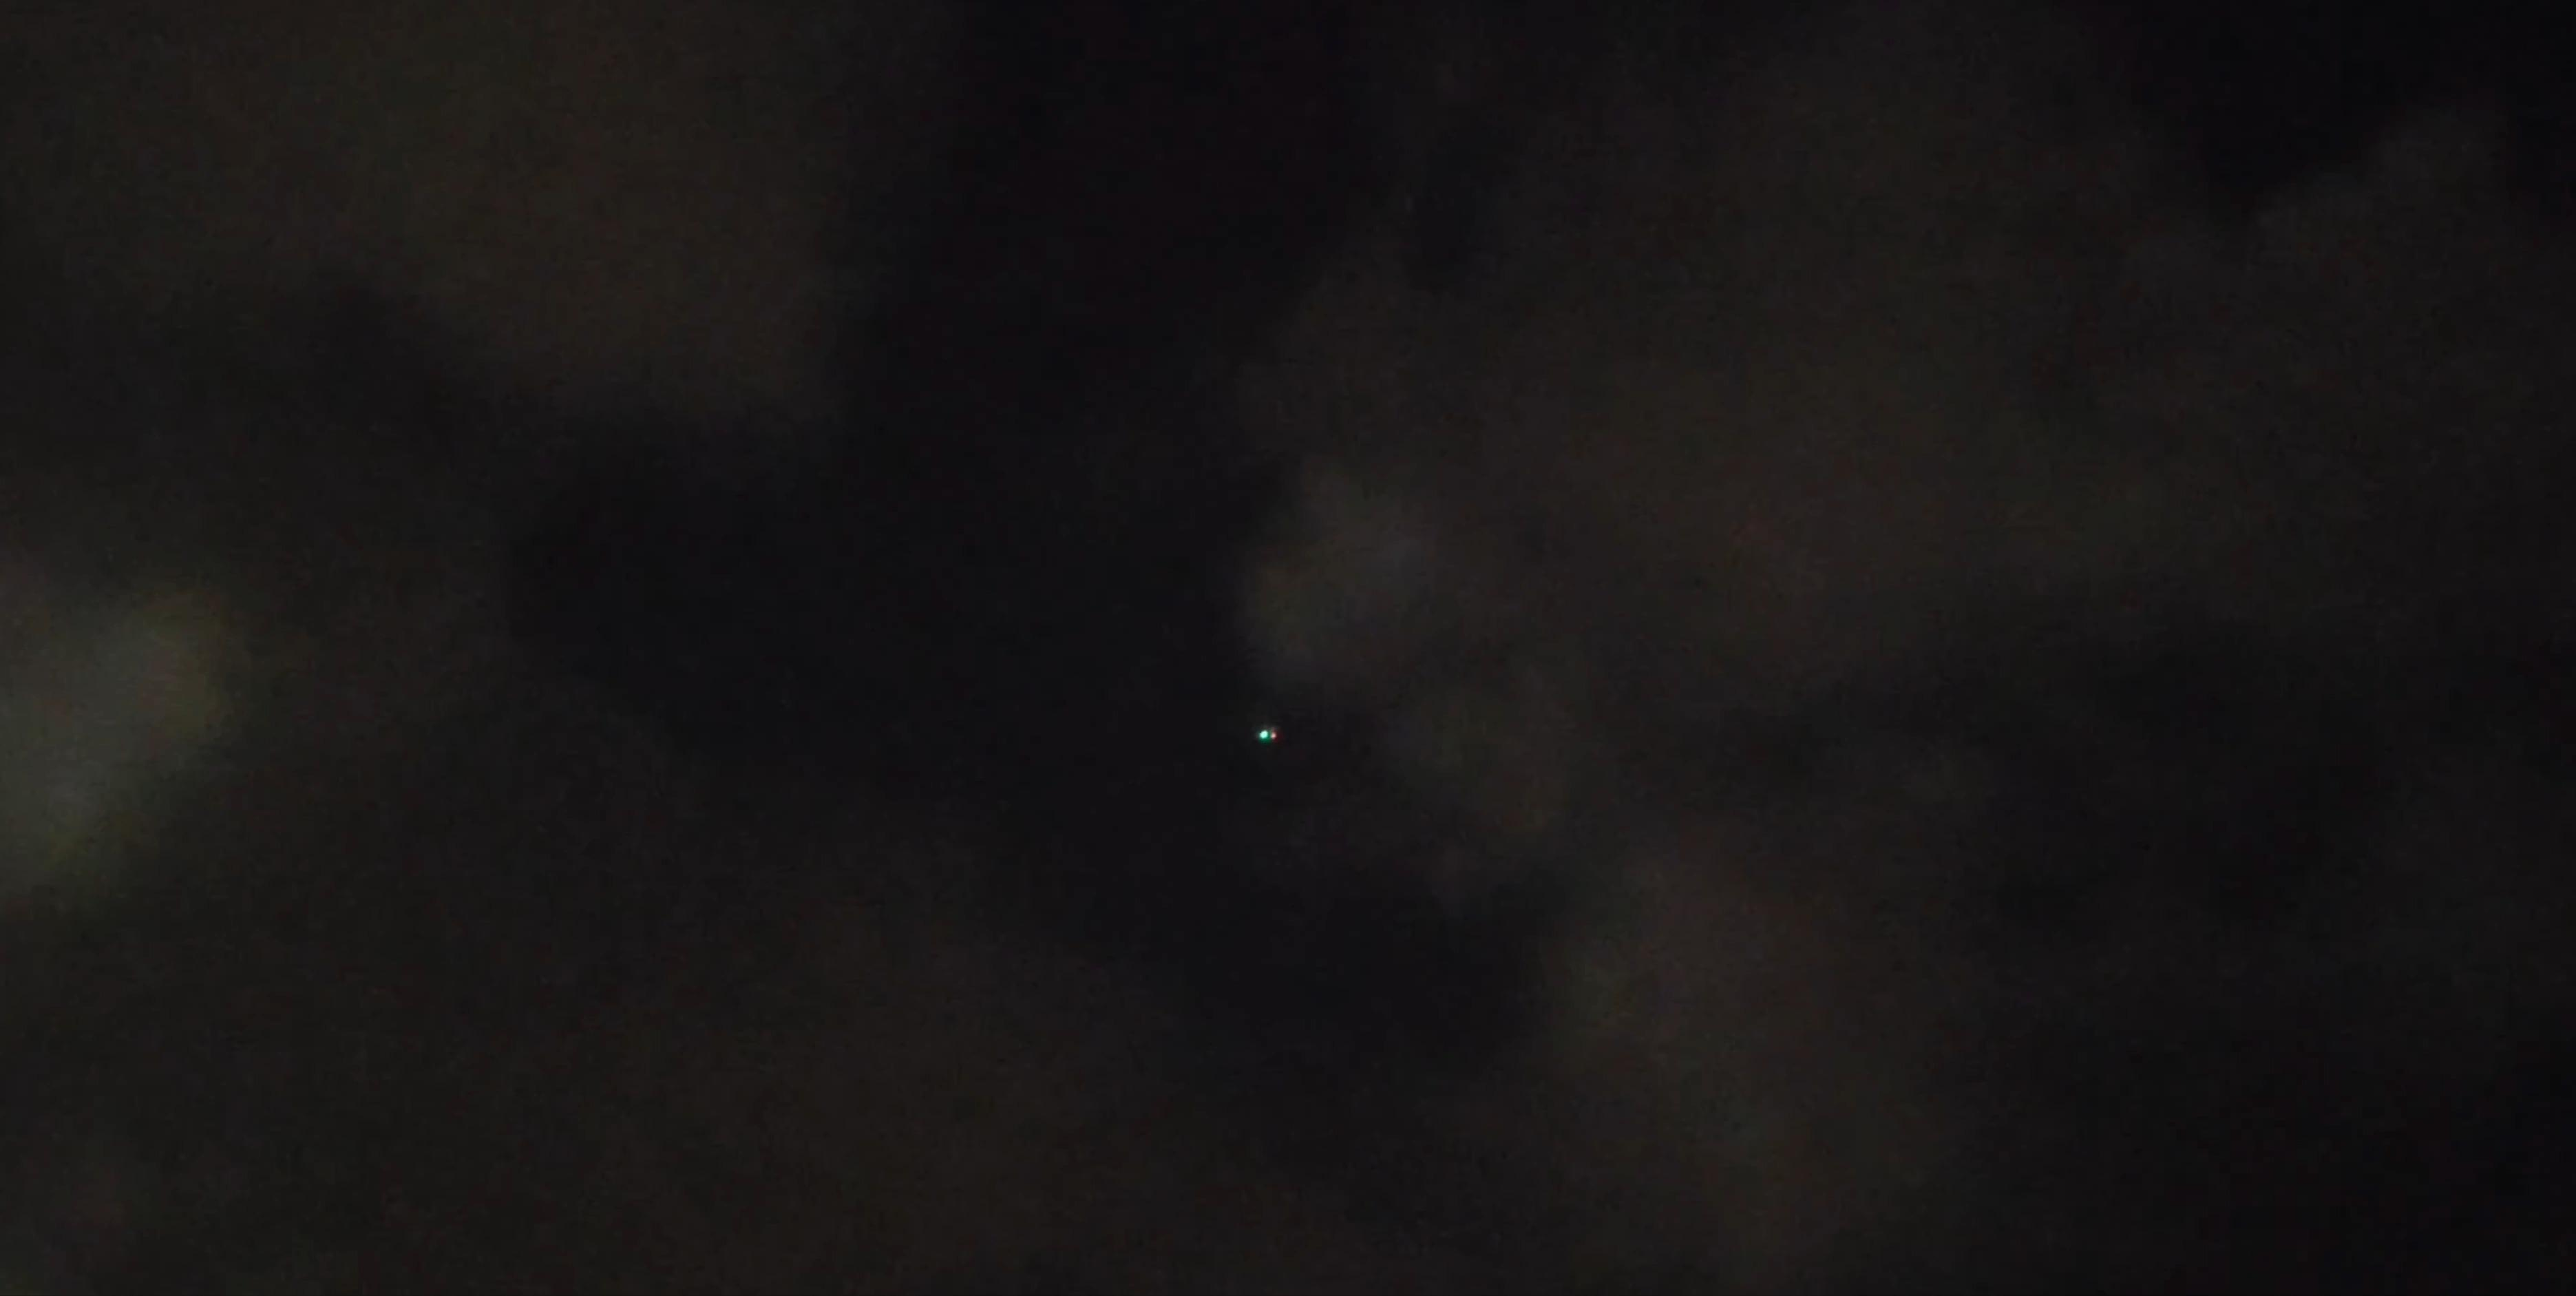Plane: (1246, 717, 1299, 757)
